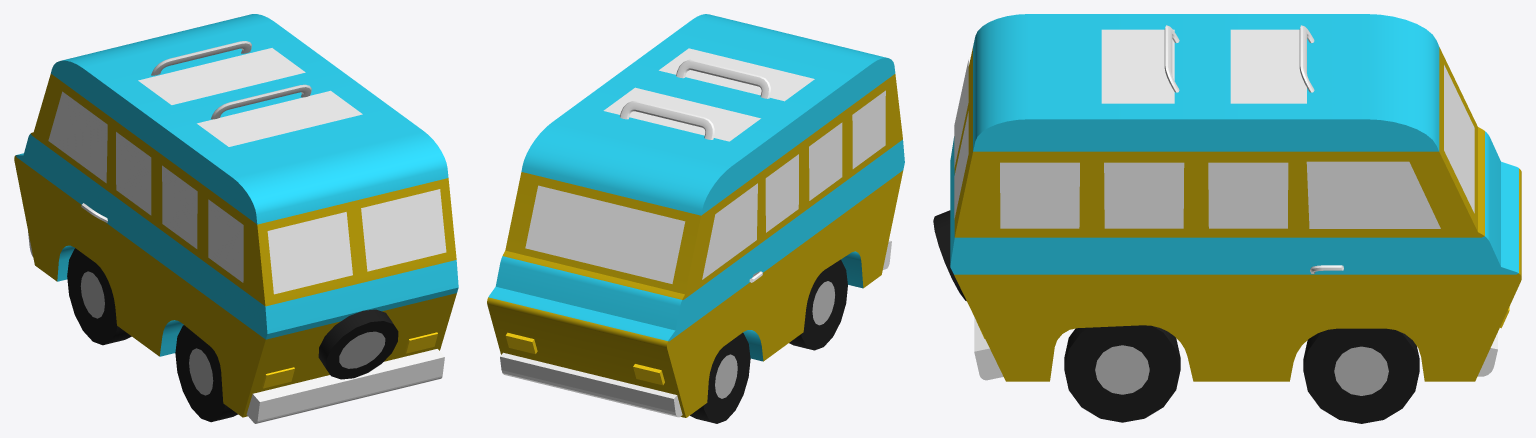
Rendered from швеция_дляигры.fbx.
3 renders of one model, left to right at view 1: azimuth 30°, elevation 25°; view 2: azimuth 150°, elevation 25°; view 3: azimuth 270°, elevation 25°, orthographic. The views are drawn at different scales.
Visible parts, largest first — view 1: Cube, Plane.007, Cube.002, Plane.004, Plane.003, Plane, Plane.001, Cylinder.006, Cylinder.001, Cylinder, Plane.002, Cylinder.005 (+3 smaller); view 2: Cube, Plane.005, Plane.007, Cube.001, Plane, Cylinder.001, Cylinder, Plane.001, Plane.002, Cylinder.004, Cylinder.005, Cube.003 (+1 smaller); view 3: Cube, Plane.007, Cylinder, Cylinder.001, Plane.002, Plane, Plane.001, Plane.005, Cube.002, Cylinder.006, Plane.004, Plane.003 (+2 smaller).
Boxes of the visible parts, x1,y1,x2,y2 form: Cube: (14, 14, 458, 417); Plane.007: (116, 132, 243, 282); Cube.002: (246, 349, 444, 423); Plane.004: (361, 189, 446, 271); Plane.003: (267, 212, 352, 294); Plane: (138, 48, 305, 104); Plane.001: (197, 90, 362, 146); Cylinder.006: (318, 309, 398, 379); Cylinder.001: (67, 248, 131, 345); Cylinder: (175, 325, 237, 422); Plane.002: (48, 91, 107, 183); Cylinder.005: (211, 84, 311, 119); Cube: (487, 14, 904, 417); Plane.005: (525, 185, 685, 283); Plane.007: (765, 90, 885, 232); Cube.001: (500, 352, 682, 417); Plane: (603, 87, 760, 141); Cylinder.001: (690, 332, 750, 423); Cylinder: (789, 259, 847, 350); Plane.001: (659, 48, 814, 101); Plane.002: (702, 183, 757, 279); Cylinder.004: (620, 101, 714, 139); Cylinder.005: (676, 59, 770, 98); Cube.003: (505, 332, 537, 354); Cube: (950, 14, 1521, 381); Plane.007: (1000, 162, 1288, 228); Cylinder: (1064, 325, 1180, 422); Cylinder.001: (1303, 328, 1419, 423); Plane.002: (1306, 161, 1440, 228); Plane: (1230, 29, 1306, 103); Plane.001: (1101, 29, 1174, 103); Plane.005: (1444, 65, 1474, 213); Cube.002: (974, 317, 1003, 380); Cylinder.006: (933, 210, 966, 300); Plane.004: (954, 111, 968, 219); Plane.003: (954, 60, 968, 167).
Bounding box in the file's own units: 134 × 172 × 279.
